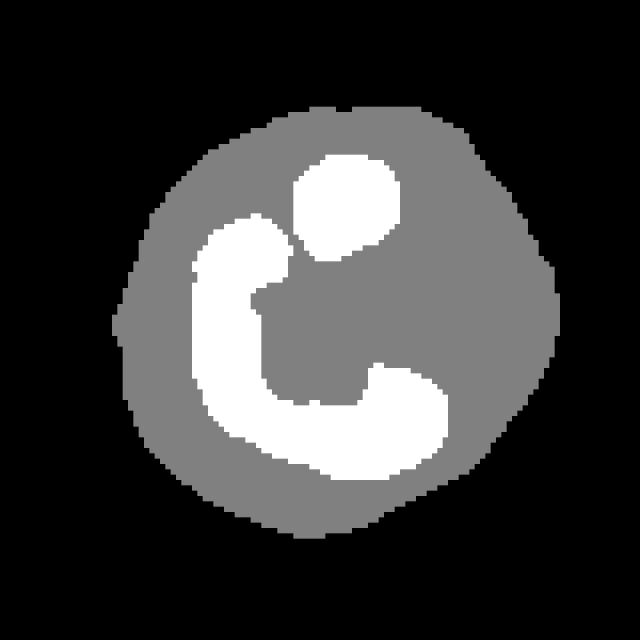WBC: (96, 90, 581, 554)
